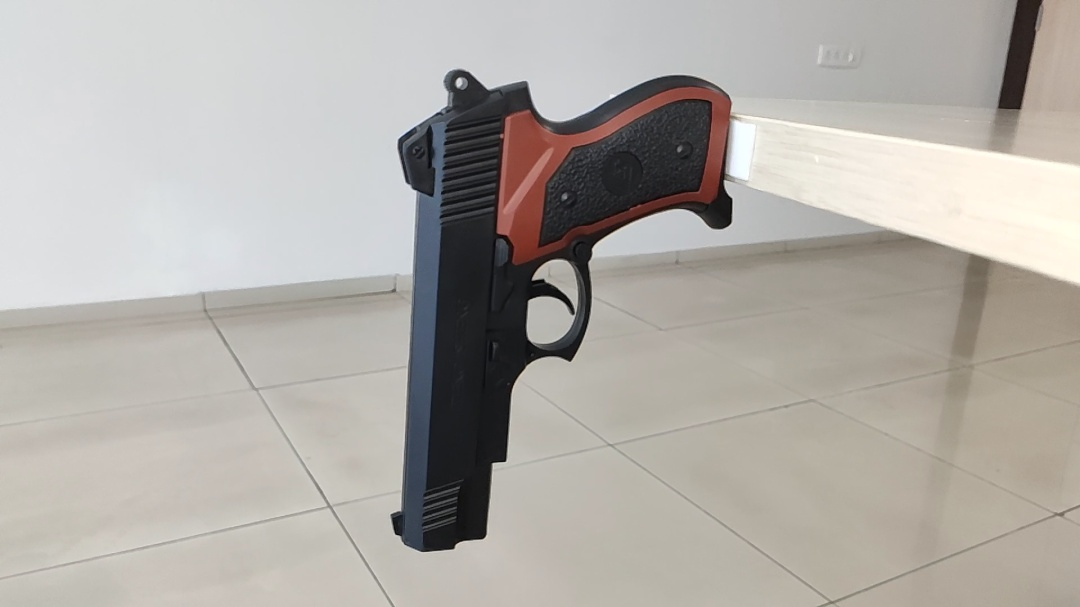gun: (390, 65, 737, 557)
